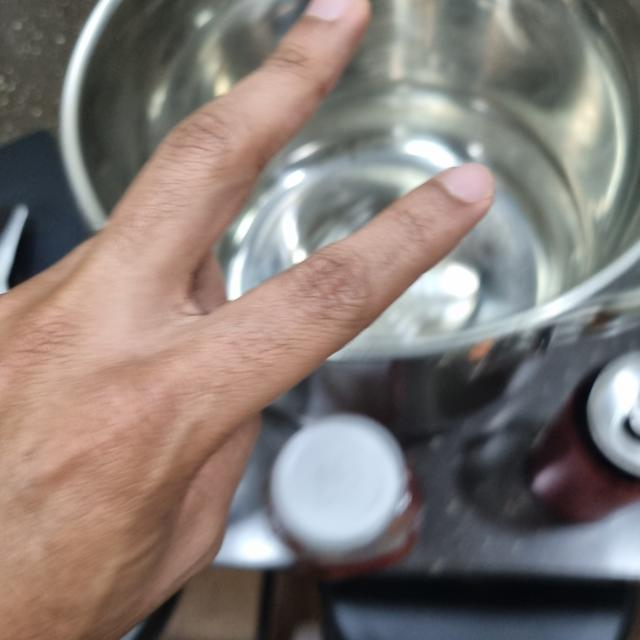Scissors: (0, 1, 492, 640)
